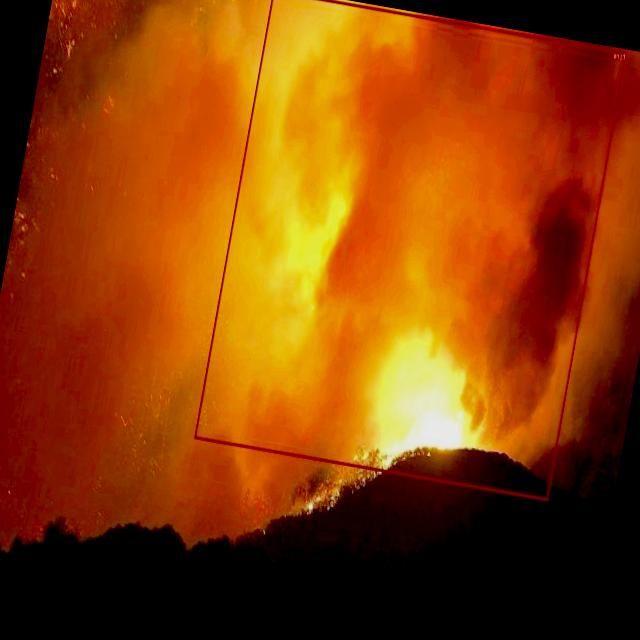fire: (194, 0, 627, 500)
